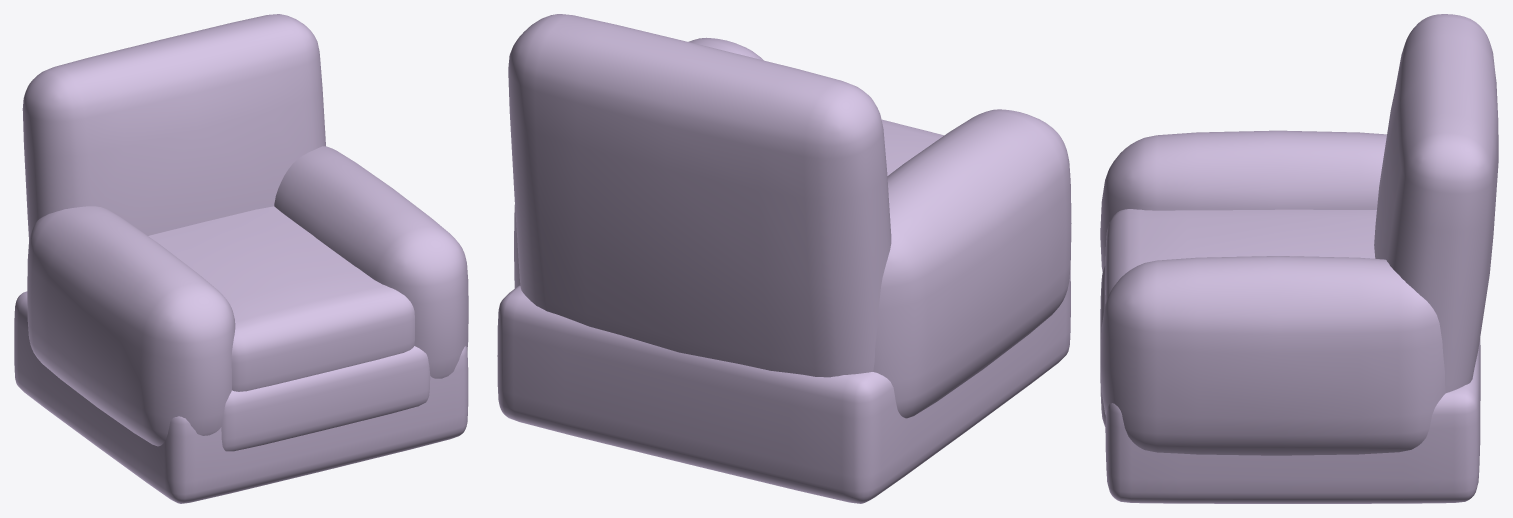
File: armchair_a.glb
3 renders of one model, left to right at view 1: azimuth 30°, elevation 25°; view 2: azimuth 150°, elevation 25°; view 3: azimuth 270°, elevation 25°, orthographic. The views are drawn at different scales.
Visible parts, largest first — view 1: body; view 2: body; view 3: body.
Boxes of the visible parts, <box> form: body: <box>14,14,468,503</box>; body: <box>497,14,1071,503</box>; body: <box>1100,14,1498,503</box>.
Bounding box in the file's own units: 0.86 × 0.7971 × 0.8067.
